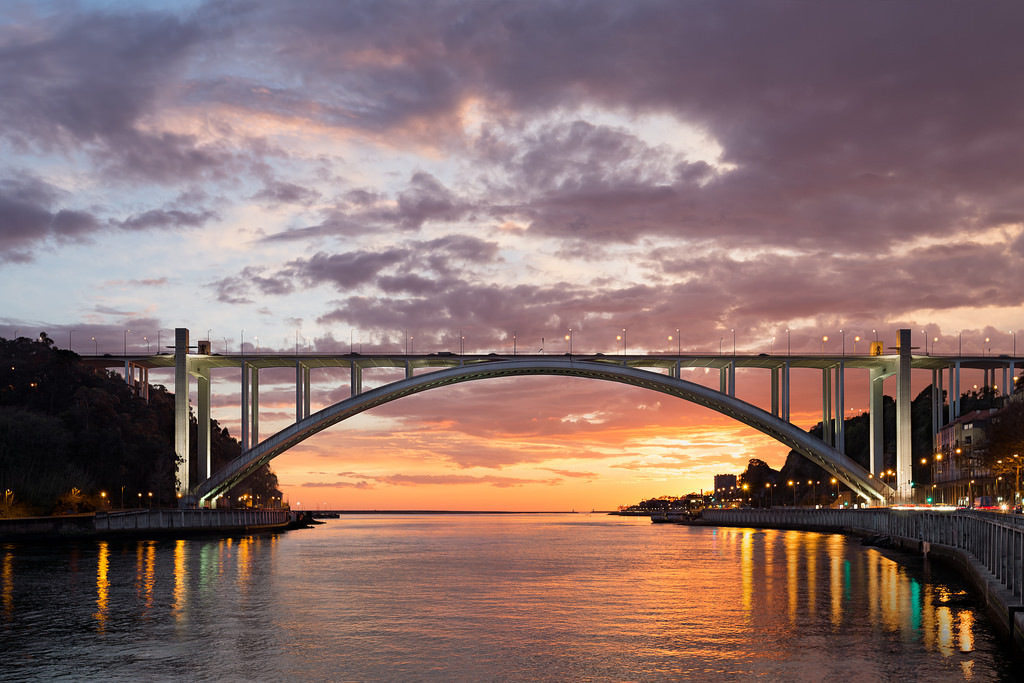arrabida: (74, 325, 1023, 511)
